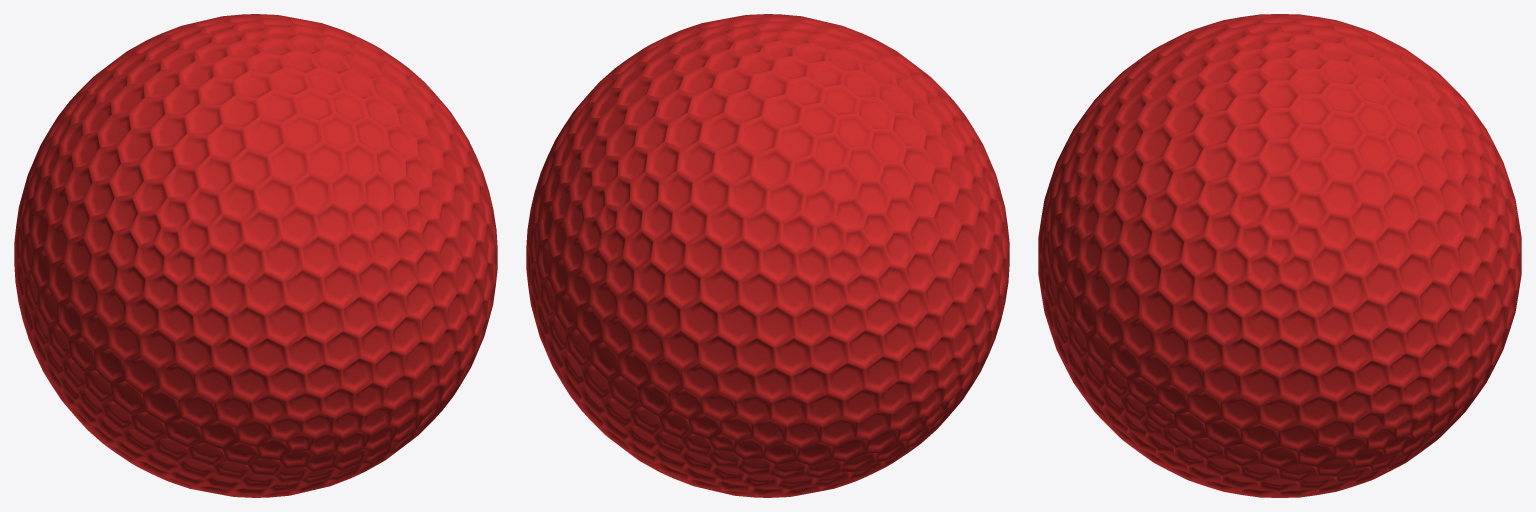
The model's file is RedBall.fbx.
3 views of the same model, side by side, from view 1: azimuth 30°, elevation 25°; view 2: azimuth 150°, elevation 25°; view 3: azimuth 270°, elevation 25° (orthographic).
Visible parts, largest first — view 1: GolfBall; view 2: GolfBall; view 3: GolfBall.
Part boxes in pixels (x1,y1,x2,y2): GolfBall: (14,14,497,497); GolfBall: (526,14,1009,497); GolfBall: (1038,14,1521,497).
Bounding box in the file's own units: 37.86 × 38 × 37.87.
